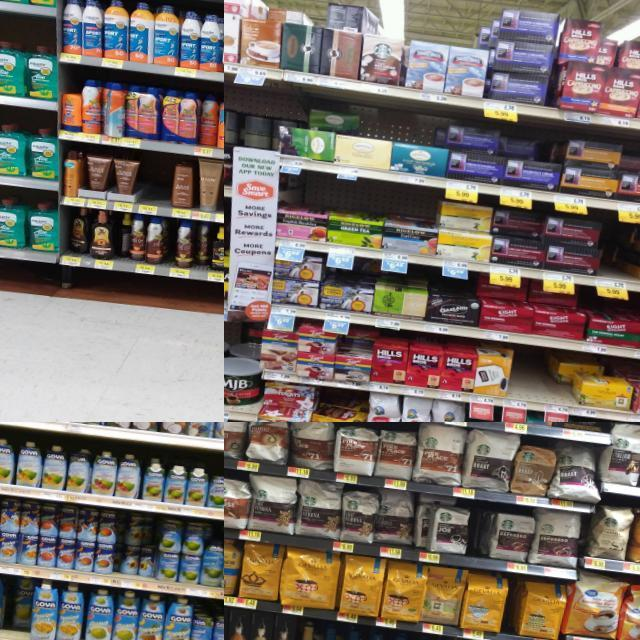Imprecise: (445, 125, 559, 193), (488, 197, 548, 267), (290, 106, 360, 162), (117, 512, 157, 578), (5, 574, 39, 636)
